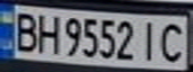2: (115, 17, 139, 62)
5: (78, 15, 100, 58), (97, 16, 118, 61)
9: (60, 14, 84, 57)
B: (9, 9, 42, 53)
C: (157, 19, 190, 63)
H: (33, 11, 60, 54)
I: (136, 18, 163, 62)
